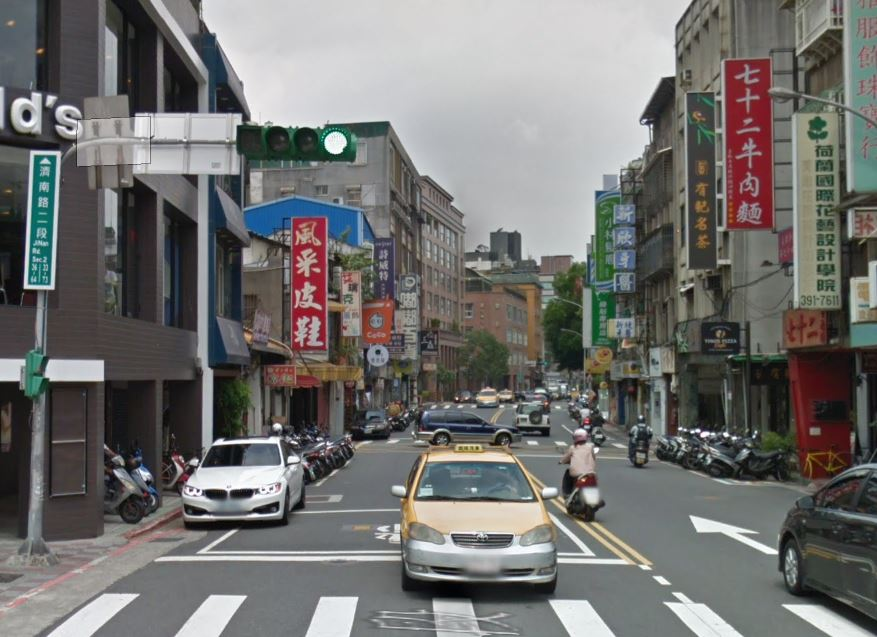Traffic_light_green: (235, 118, 360, 170)
car: (393, 440, 564, 599), (182, 432, 308, 530)
motorcycle: (556, 445, 608, 521)
